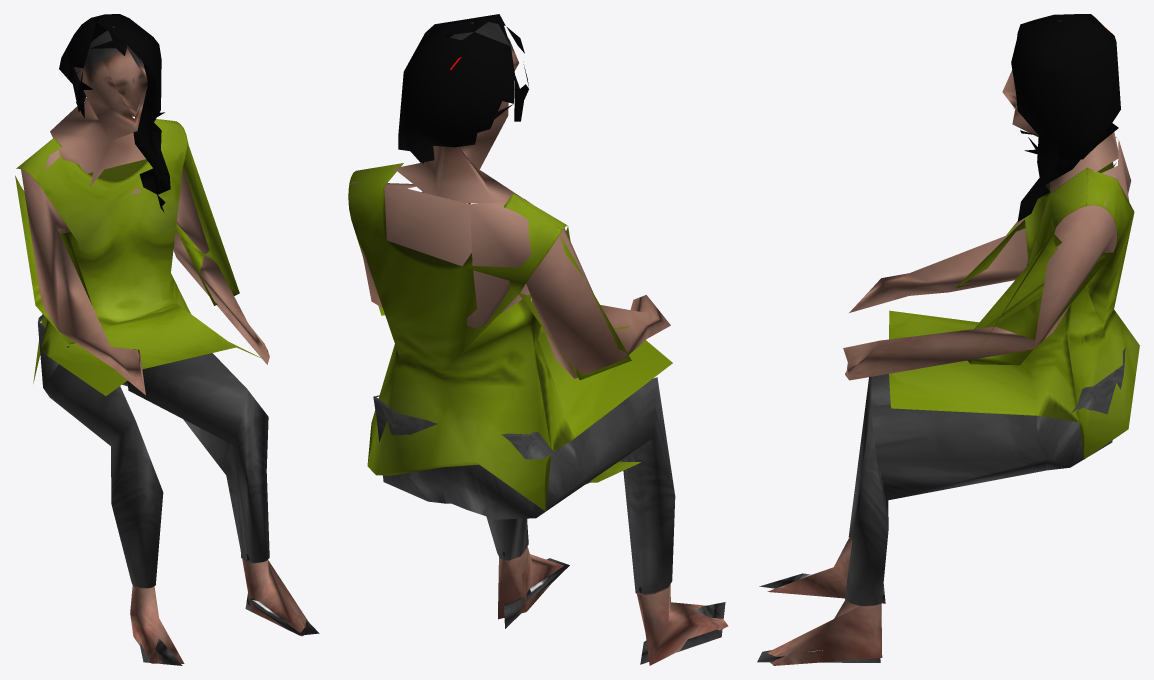
The model's file is girl_churidar_sit.glb.
3 views of the same model, side by side, from view 1: azimuth 30°, elevation 25°; view 2: azimuth 150°, elevation 25°; view 3: azimuth 270°, elevation 25° (orthographic). The views are drawn at different scales.
Parts seen in each view (by area): view 1: geometry_0; view 2: geometry_0; view 3: geometry_0.
Part boxes in pixels (<box>): geometry_0: <box>15,14,319,665</box>; geometry_0: <box>348,14,728,665</box>; geometry_0: <box>757,14,1139,665</box>.
Size of the model in its own units: 0.4074 by 1.21 by 0.6788.
Materials: 1 (1 with a texture image).
